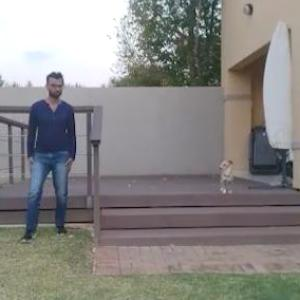follow: (23, 64, 76, 256)
